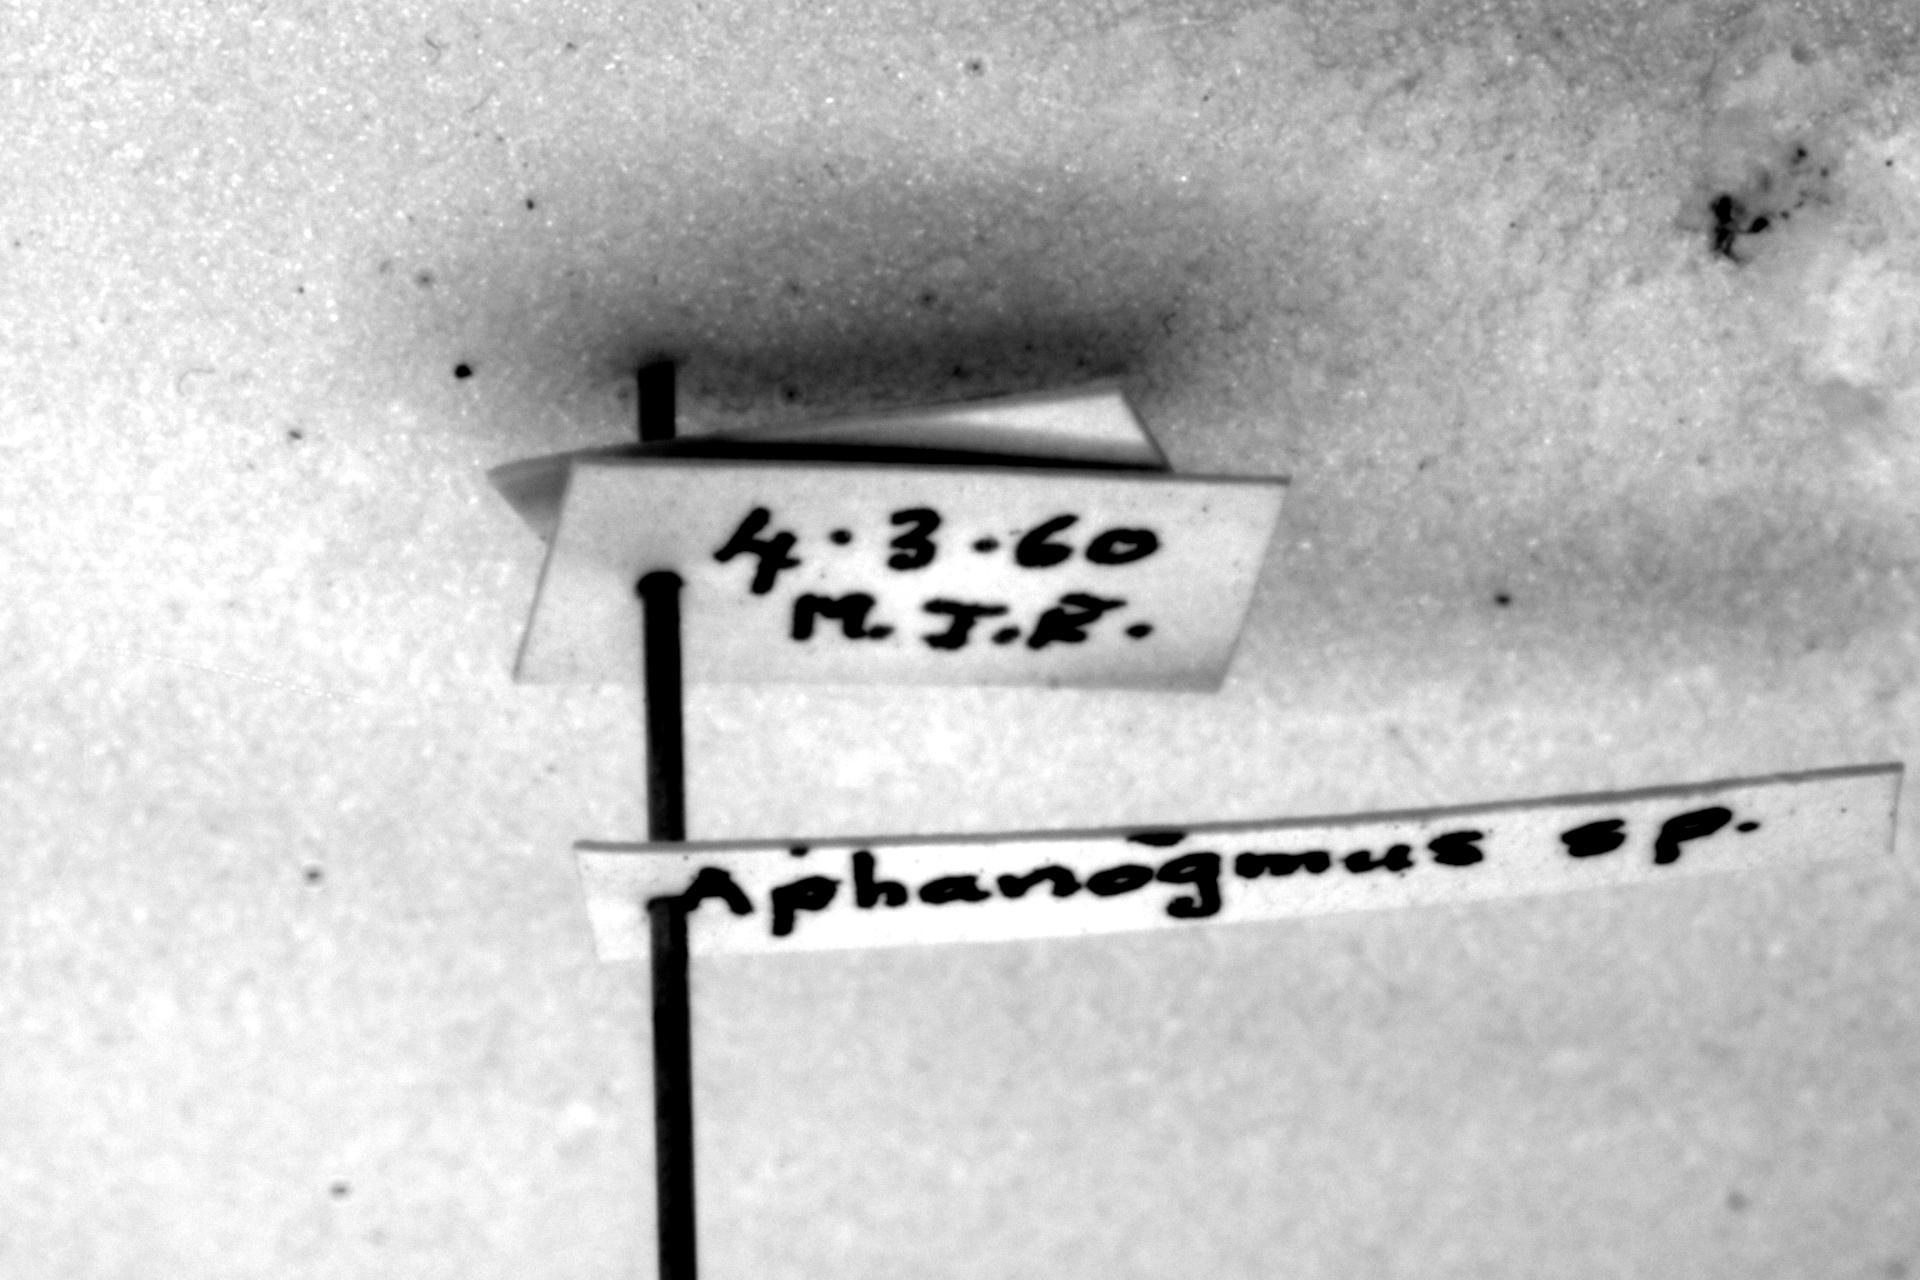hand_label: (577, 766, 1901, 960), (517, 457, 1286, 690)
